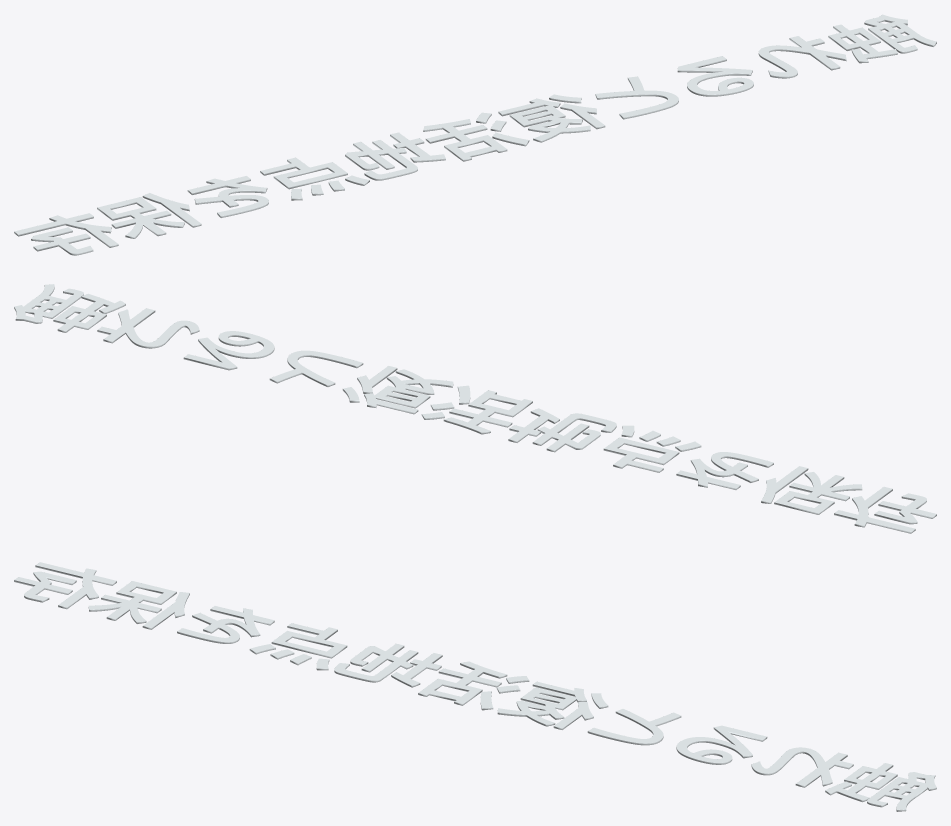
Rendered from stage1_save_flag_detail.obj.
3 views of the same model, one above another, from view 1: azimuth 30°, elevation 25°; view 2: azimuth 150°, elevation 25°; view 3: azimuth 330°, elevation 25° (orthographic).
Visible parts, largest first — view 1: stage1_save_flag_detail; view 2: stage1_save_flag_detail; view 3: stage1_save_flag_detail.
Part boxes in pixels (bbox=[...]): stage1_save_flag_detail: bbox=[14, 14, 936, 255]; stage1_save_flag_detail: bbox=[14, 284, 936, 533]; stage1_save_flag_detail: bbox=[14, 562, 936, 811].
Size of the model in its own units: 4.3 by 0.00862 by 0.3787.
1 material, 1 textured.
